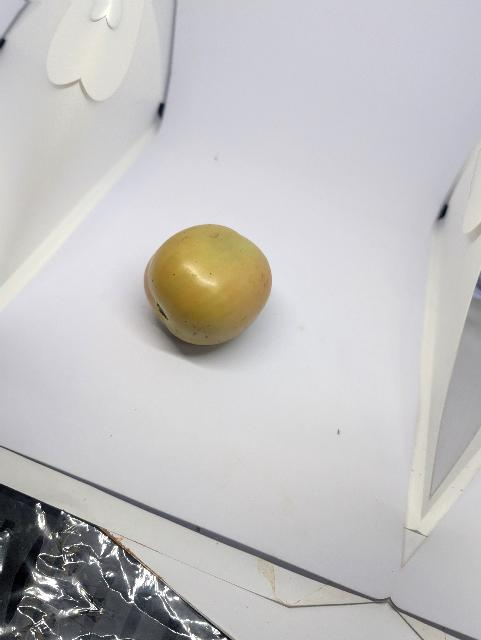breaker: (141, 222, 277, 349)
